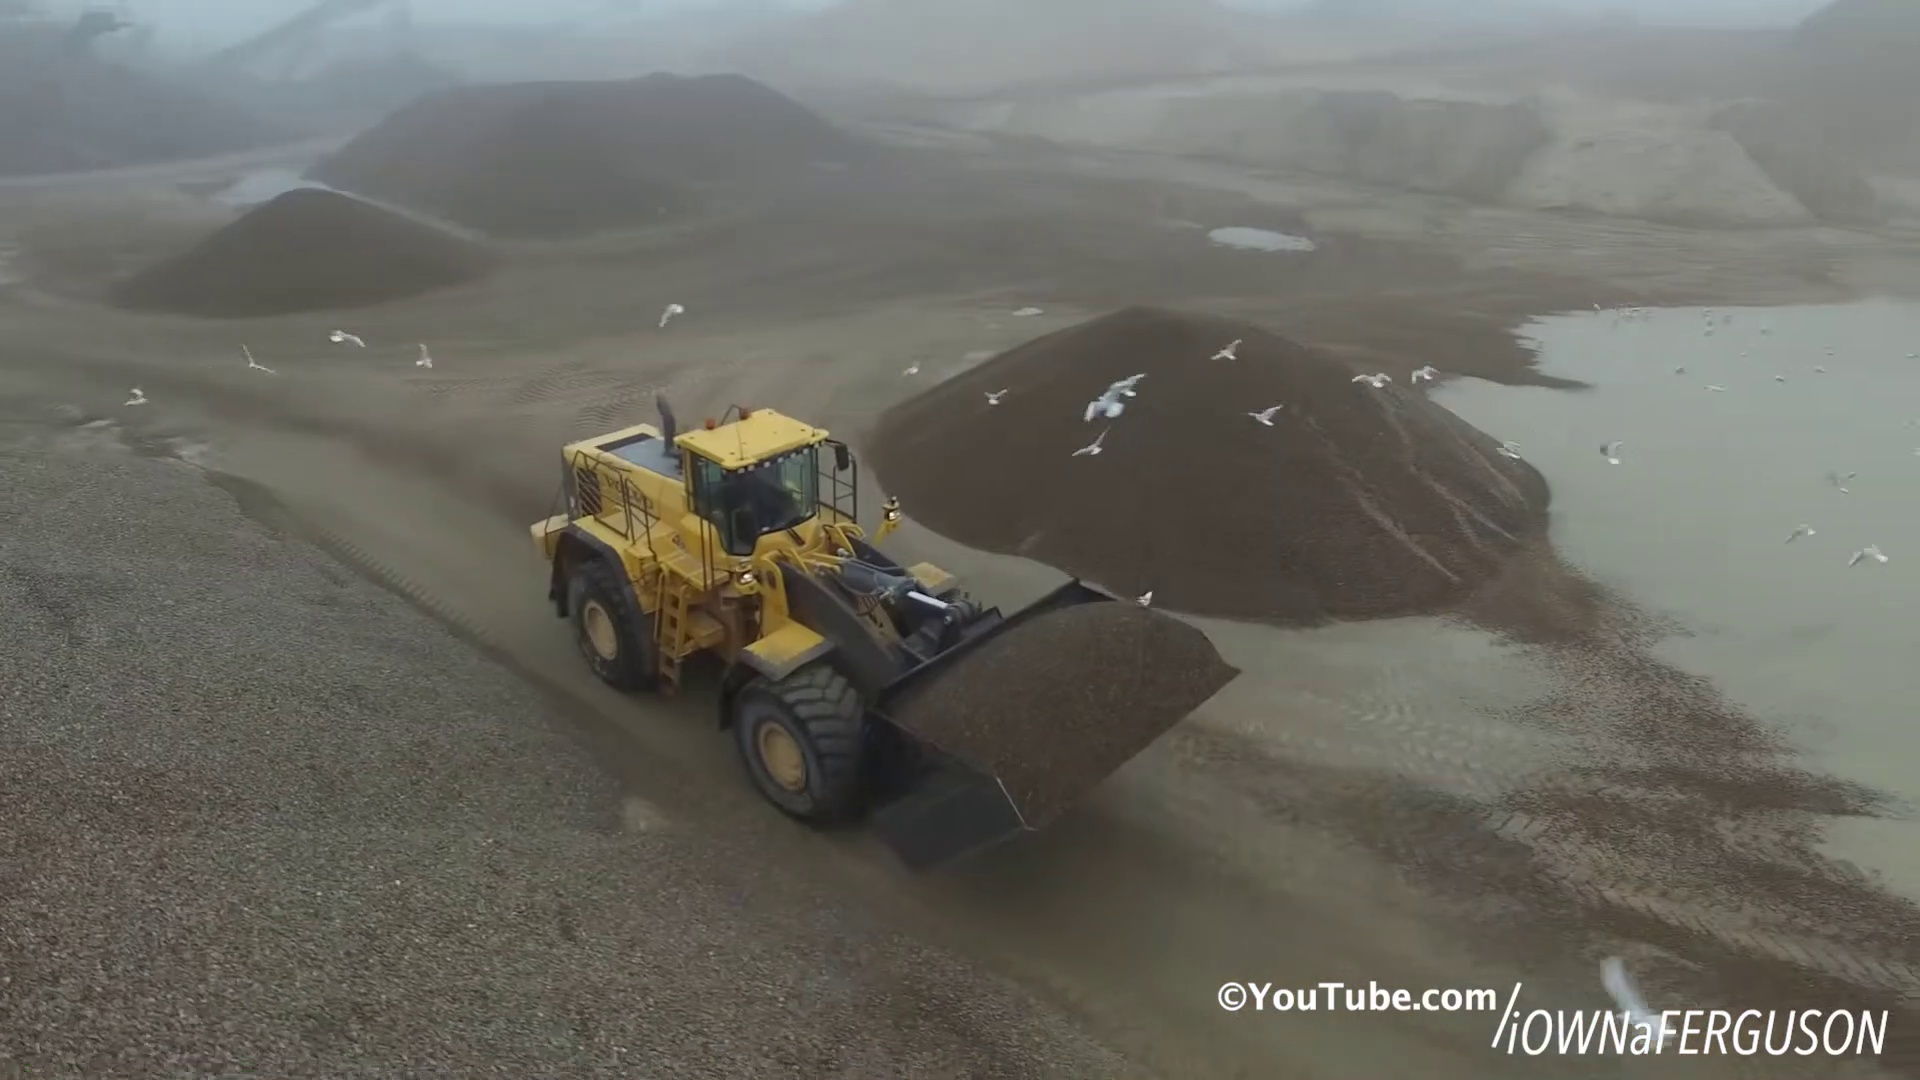wheel loader: (529, 396, 1246, 880)
